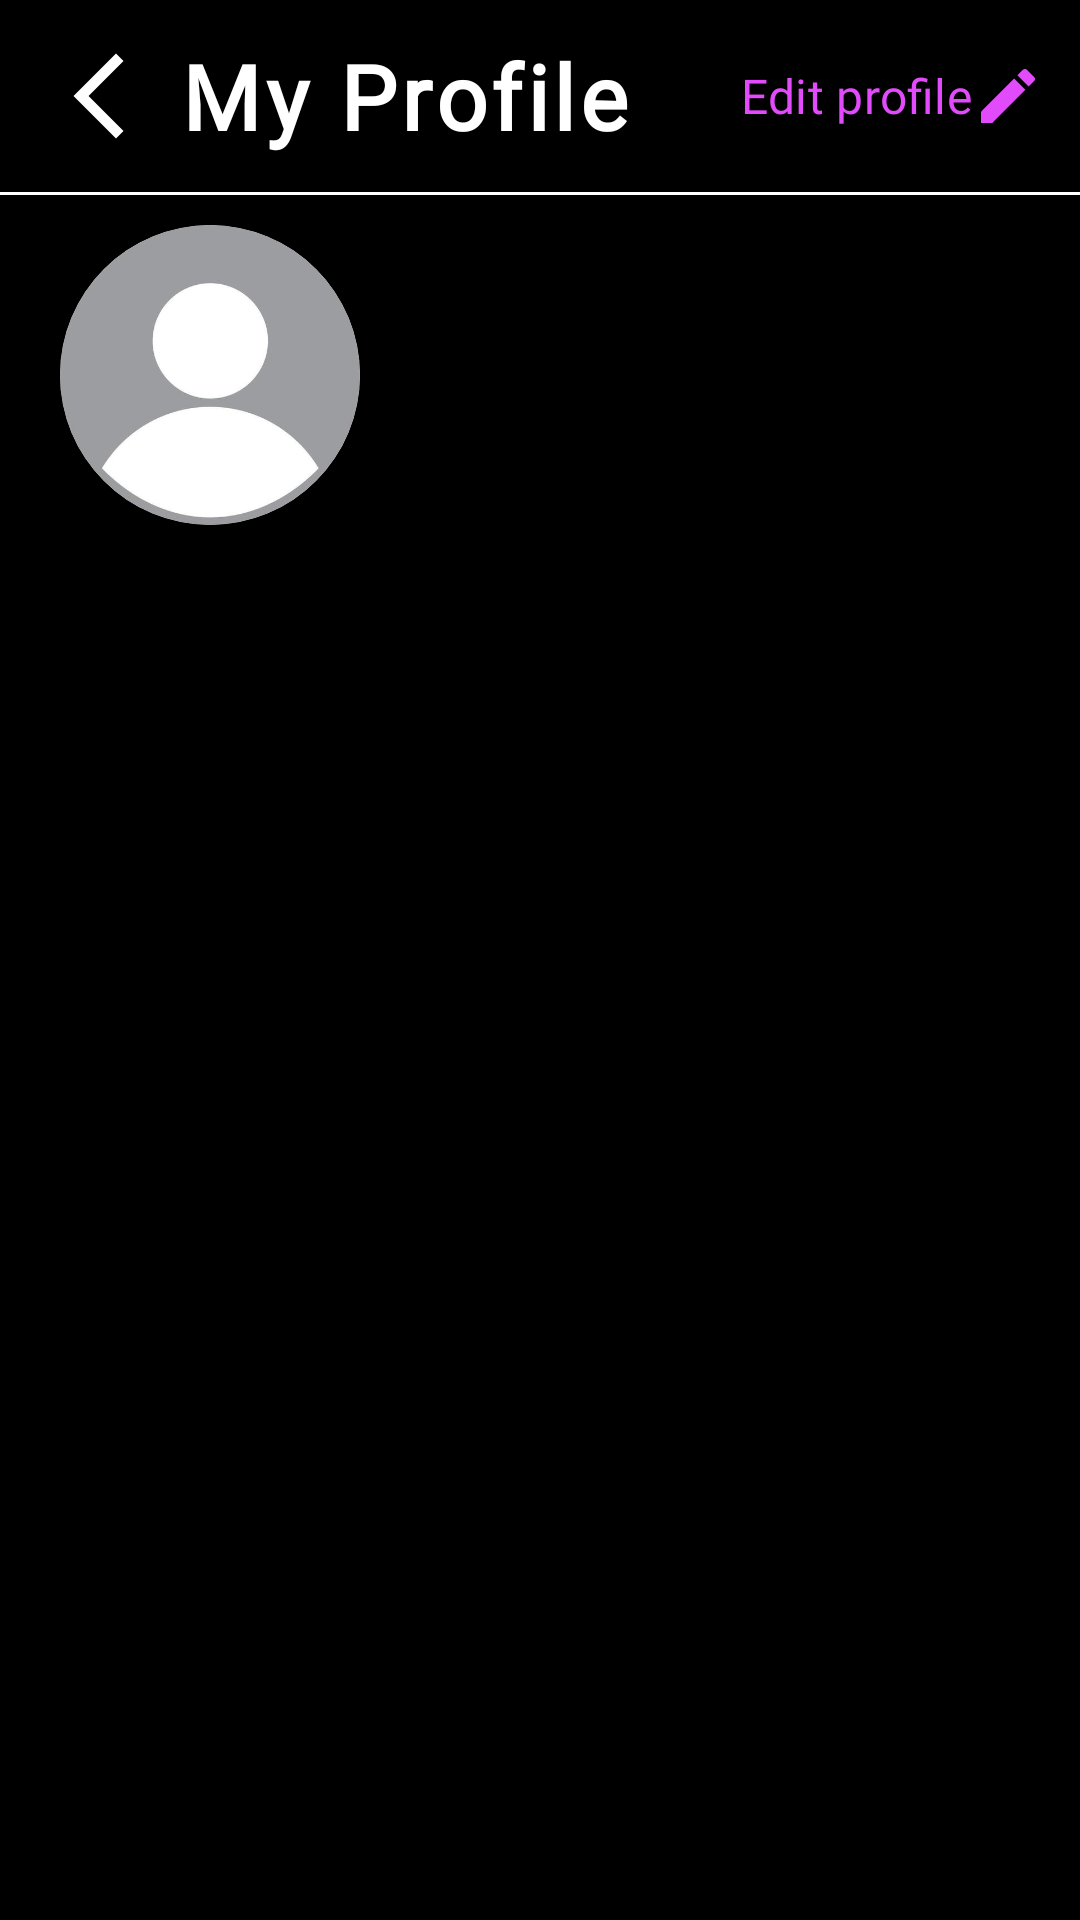

Where icons sit on this 1080×1920 app screen, as (x1, y1, x2, y2):
back: (73, 53, 124, 139)
user profile standard: (60, 225, 360, 525)
